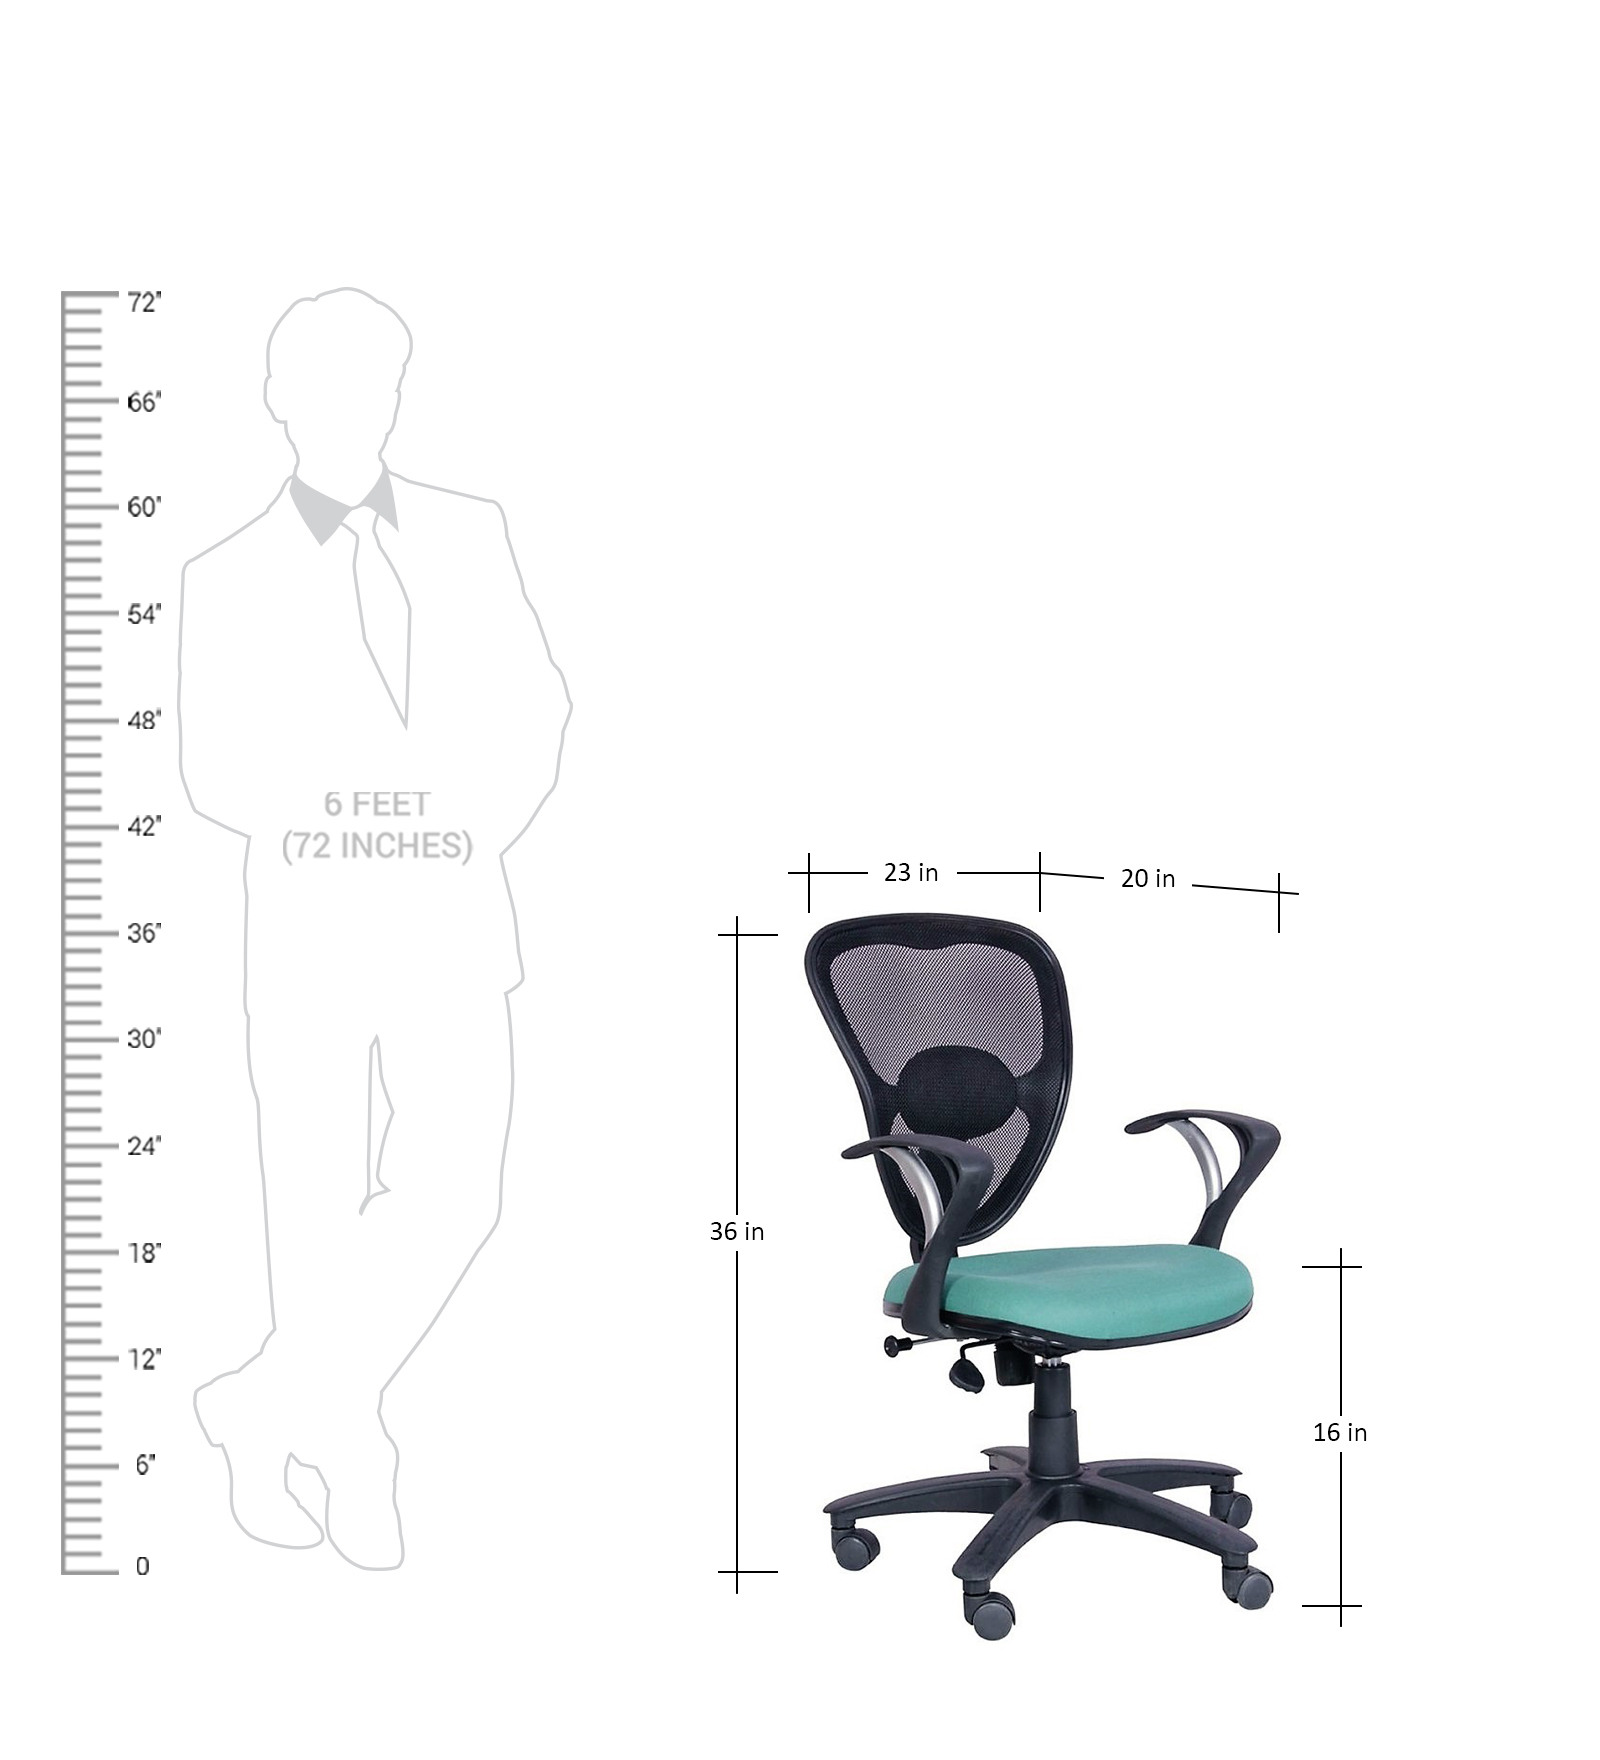Triangular Back Ergonomic Chair with Green Seat by Adiko Systems: (779, 911, 1313, 1640)
